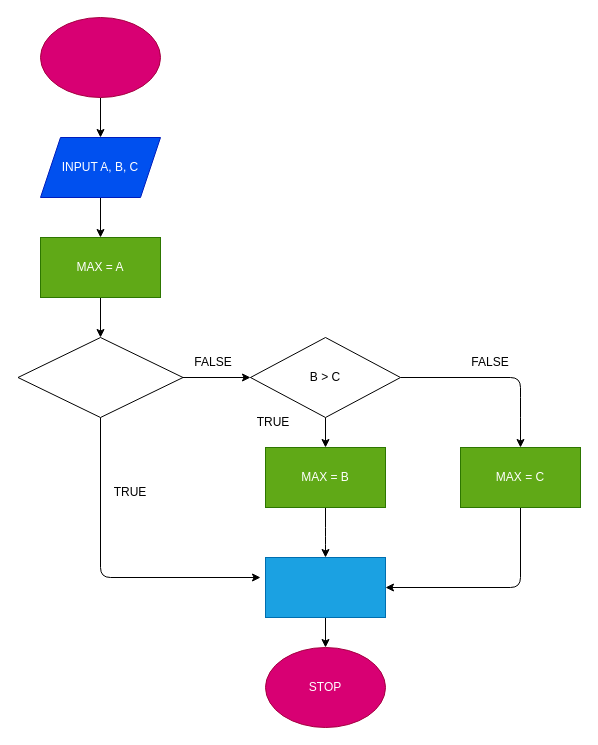
Image size: 598x745. Some labels were removed from this diagram. Here are the shapes that lost their labels. From the top down, the centre of each, then its label:
At [100,57]: "BEGIN".
At [100,377]: "MAX > B && MAX > C".
At [325,587]: "DISPLAY MAX".
